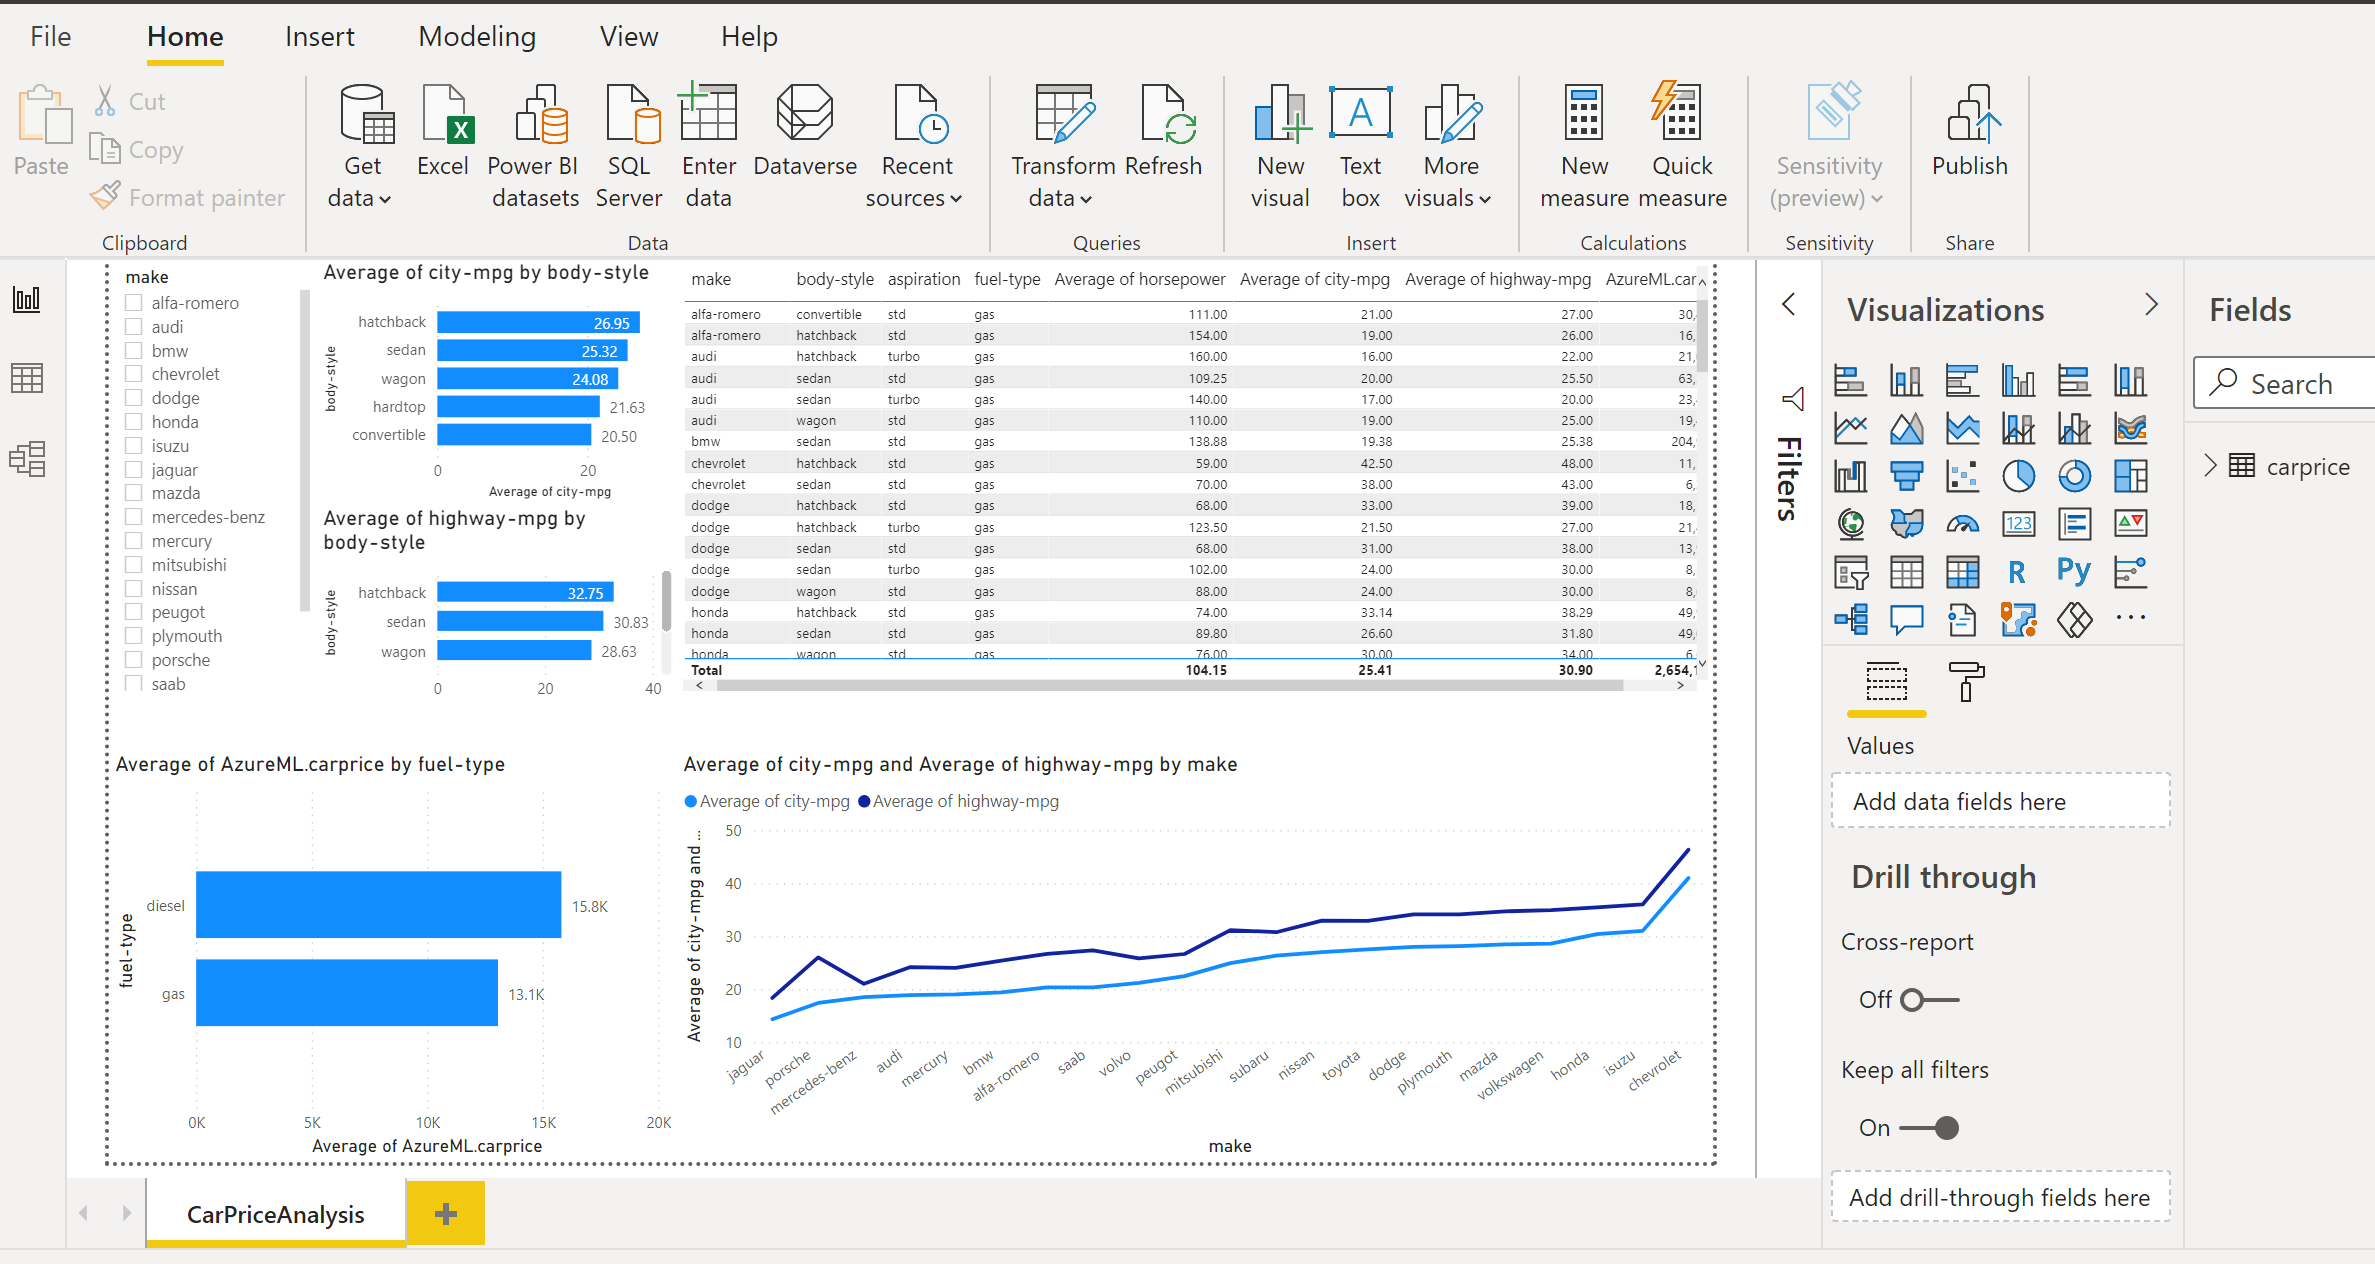

What the dashboard file says about the page in this screenshot:
{"tool":"powerbi","page":{"name":"CarPriceAnalysis","canvas":[1280,720],"ordinal":0},"visuals":[{"type":"barChart","fields":{"Category":["carprice.fuel-type"],"Y":["Avg(carprice.AzureML.carprice)"]},"box":[0,392.8,453.5,327.6],"z":0},{"type":"slicer","fields":{"Values":["carprice.make"]},"box":[0,0,165.3,348.8],"z":1000},{"type":"barChart","fields":{"Y":["Avg(carprice.city-mpg)"],"Category":["carprice.body-style"]},"box":[165.3,0,288.2,195.6],"z":2000},{"type":"barChart","fields":{"Category":["carprice.body-style"],"Y":["Avg(carprice.highway-mpg)"]},"box":[165.3,195.6,288.2,163.8],"z":3000},{"type":"tableEx","fields":{"Values":["carprice.make","carprice.body-style","carprice.aspiration","carprice.fuel-type","Avg(carprice.horsepower)","Avg(carprice.city-mpg)","Avg(carprice.highway-mpg)","Sum(carprice.AzureML.carprice)"]},"box":[453.5,0,828.1,348.8],"z":4000},{"type":"lineChart","fields":{"Category":["carprice.make"],"Y":["Avg(carprice.city-mpg)","Avg(carprice.highway-mpg)"]},"box":[453,393,827,327],"z":5000}]}

Visuals, with their boxes on the page's 1280x720 design canvas (x1, y1, x2, y2). These are canvas units, not pixel positions in the 2375x1264 screenshot, which may show the page scaled, cropped or inside an application window:
barChart - carprice.fuel-type x Avg(carprice.AzureML.carprice): [x1=0, y1=393, x2=454, y2=720]
slicer - carprice.make: [x1=0, y1=0, x2=165, y2=349]
barChart - Avg(carprice.city-mpg) x carprice.body-style: [x1=165, y1=0, x2=454, y2=196]
barChart - carprice.body-style x Avg(carprice.highway-mpg): [x1=165, y1=196, x2=454, y2=359]
tableEx - carprice.make x carprice.body-style: [x1=454, y1=0, x2=1282, y2=349]
lineChart - carprice.make x Avg(carprice.city-mpg): [x1=453, y1=393, x2=1280, y2=720]
